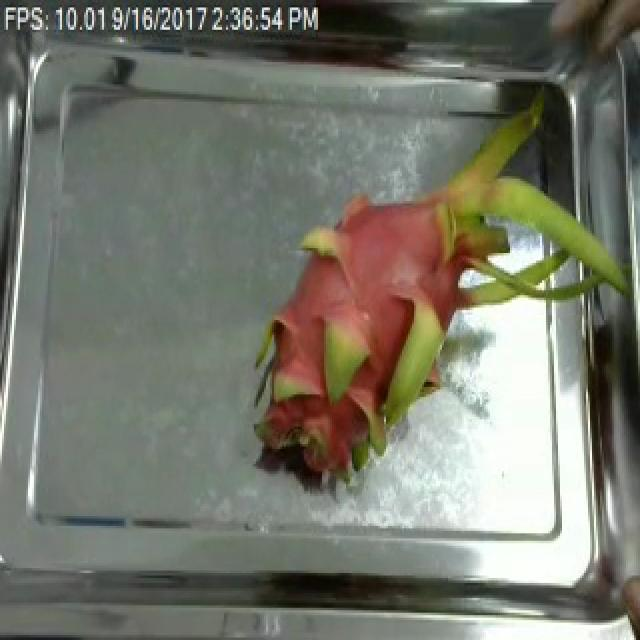fruit: (228, 134, 572, 518)
